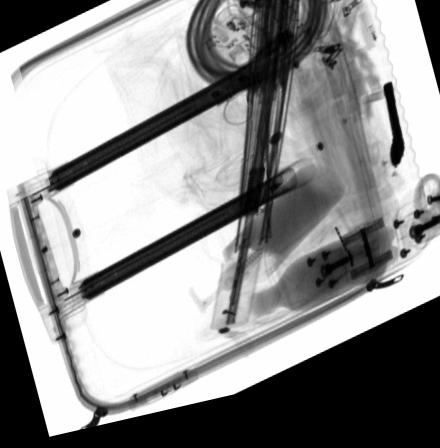Gun: (381, 99, 404, 187)
